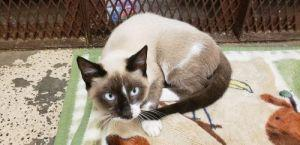siamese: (76, 44, 156, 131)
